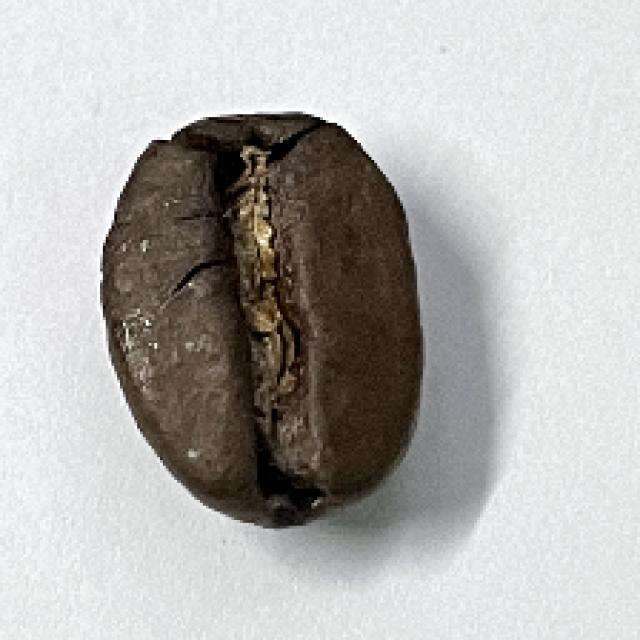bean: (93, 104, 428, 530)
